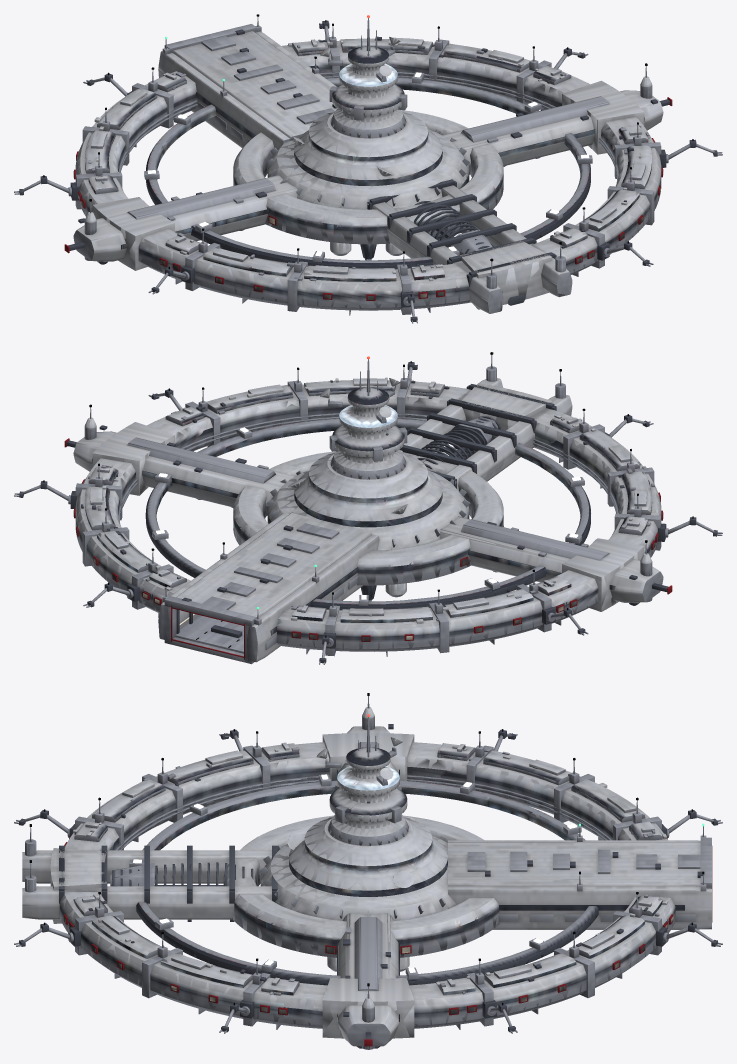
Rendered from spacedock.glb.
The picture shows the model from 3 angles, top to bottom: view 1: azimuth 30°, elevation 25°; view 2: azimuth 150°, elevation 25°; view 3: azimuth 270°, elevation 25°; orthographic projection. The views are drawn at different scales.
Parts seen in each view (by area): view 1: Cross, Ring, Hub, LiteRing, LiteHub, Arms, Tower, LiteCross, LiteTower, LiteArms; view 2: Cross, Ring, Hub, LiteRing, LiteHub, Arms, Tower, LiteCross, LiteTower, LiteArms; view 3: Ring, Cross, Hub, LiteRing, LiteHub, Arms, Tower, LiteCross, LiteTower, LiteArms.
Part boxes in pixels (box(x1,y1,x2,y2)): Cross: box(73, 24, 663, 313); Ring: box(73, 36, 663, 315); Hub: box(233, 110, 503, 260); LiteRing: box(75, 38, 661, 310); LiteHub: box(233, 111, 503, 260); Arms: box(14, 14, 722, 323); Tower: box(320, 15, 407, 138); LiteCross: box(77, 31, 663, 313); LiteTower: box(323, 20, 406, 138); LiteArms: box(24, 26, 714, 316); Cross: box(73, 378, 663, 664); Ring: box(73, 377, 663, 656); Hub: box(233, 451, 503, 601); LiteRing: box(75, 380, 661, 655); LiteHub: box(233, 453, 503, 600); Arms: box(14, 352, 722, 664); Tower: box(320, 356, 407, 479); LiteCross: box(73, 379, 659, 661); LiteTower: box(322, 362, 405, 479); LiteArms: box(23, 366, 713, 656); Ring: box(59, 742, 675, 1029); Cross: box(22, 724, 712, 1048); Hub: box(223, 815, 499, 971); LiteRing: box(59, 743, 672, 1028); LiteHub: box(223, 817, 498, 971); Arms: box(14, 693, 722, 1049); Tower: box(316, 714, 408, 845); LiteCross: box(22, 726, 711, 1048); LiteTower: box(319, 718, 408, 845); LiteArms: box(24, 704, 712, 1049).
Bounding box in the file's own units: 1.05 × 0.4256 × 0.9991.
4 materials, 1 textured.
